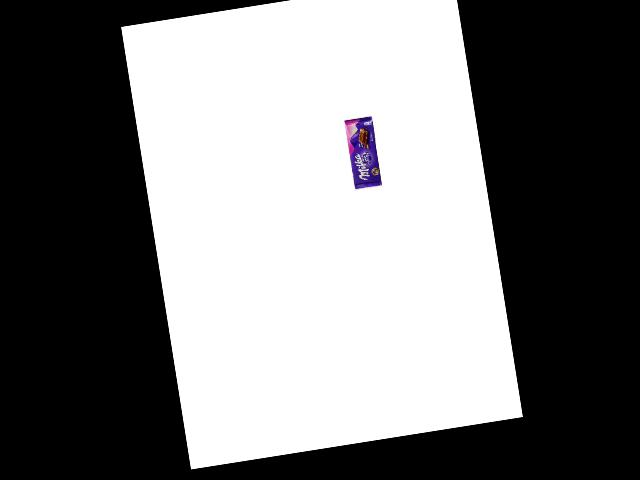chocolate: (343, 116, 383, 189)
